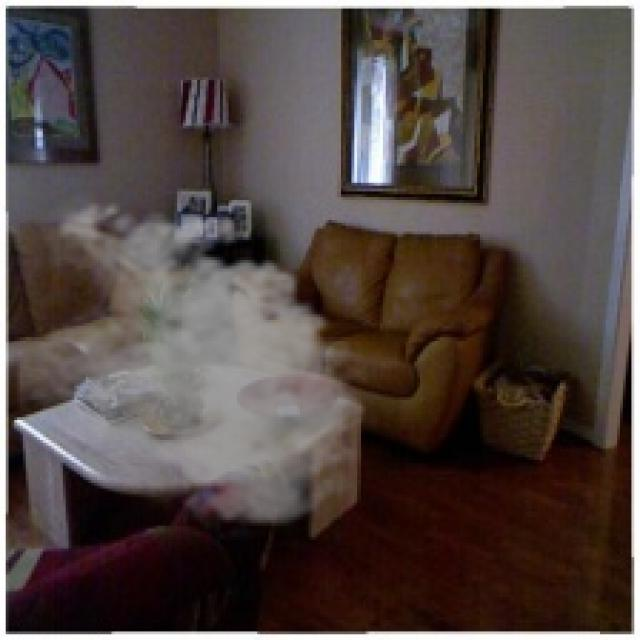smoke: (14, 192, 377, 534)
